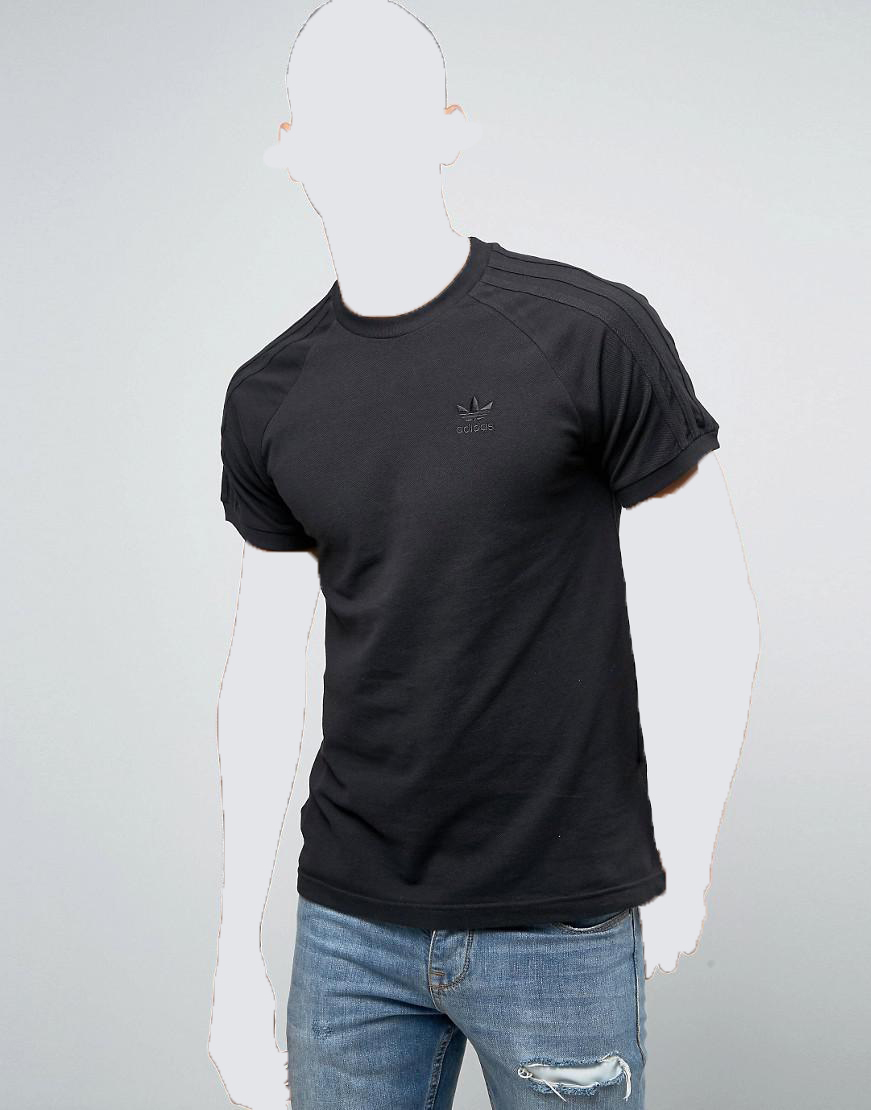teeshirt: (190, 235, 720, 920)
